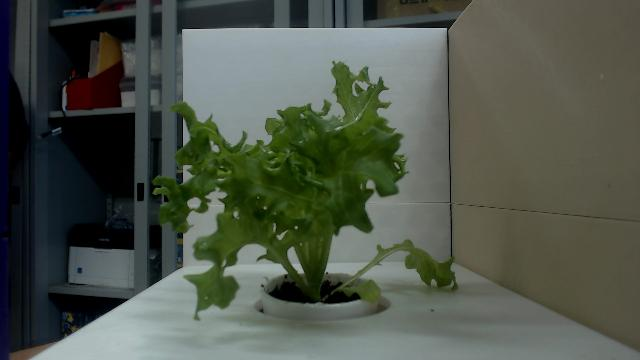Harvest Stage: (152, 58, 460, 322)
